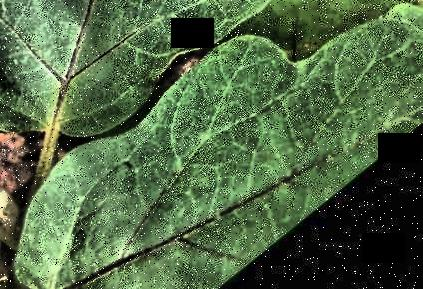HEALTHY: (1, 0, 423, 289)
